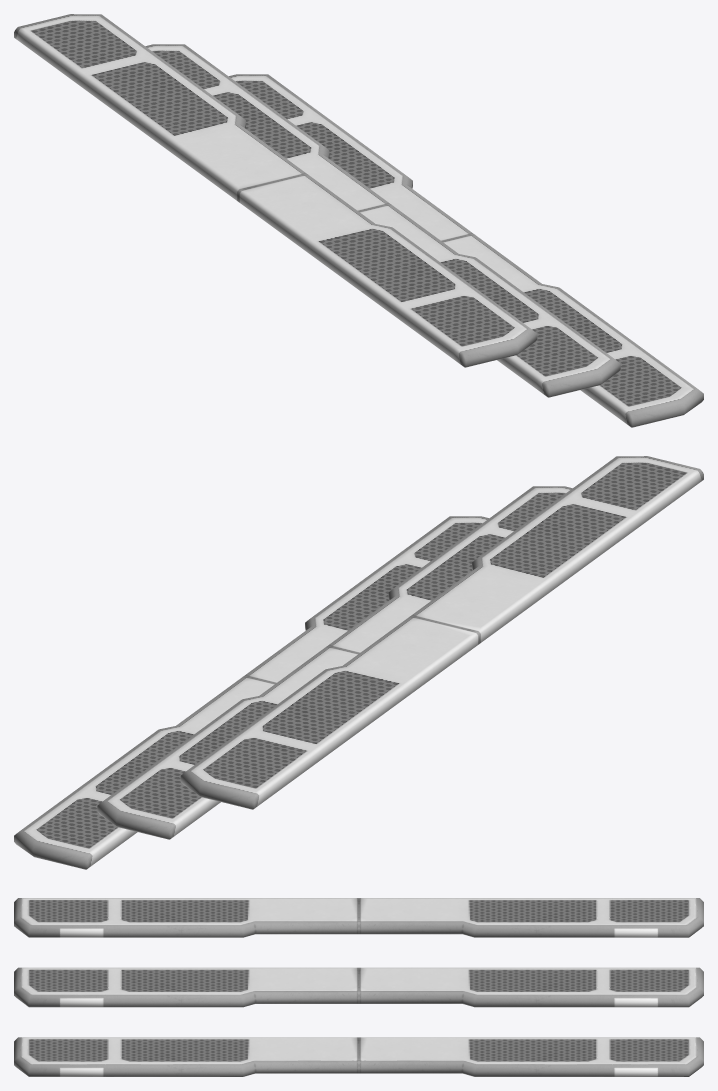
Rendered from SM_MStair01-Steps-350x50-1.FBX.
3 views of the same model, one above another, from view 1: azimuth 30°, elevation 25°; view 2: azimuth 150°, elevation 25°; view 3: azimuth 270°, elevation 25° (orthographic). The views are drawn at different scales.
Visible parts, largest first — view 1: SM_MStair01-Steps-350x50-1; view 2: SM_MStair01-Steps-350x50-1; view 3: SM_MStair01-Steps-350x50-1.
Part boxes in pixels (x1=…): SM_MStair01-Steps-350x50-1: x1=14, y1=14, x2=703, y2=427; SM_MStair01-Steps-350x50-1: x1=14, y1=456, x2=703, y2=869; SM_MStair01-Steps-350x50-1: x1=14, y1=898, x2=703, y2=1076.
Size of what is drawn, in the model's own units: 97.66 by 306 by 42.66.
